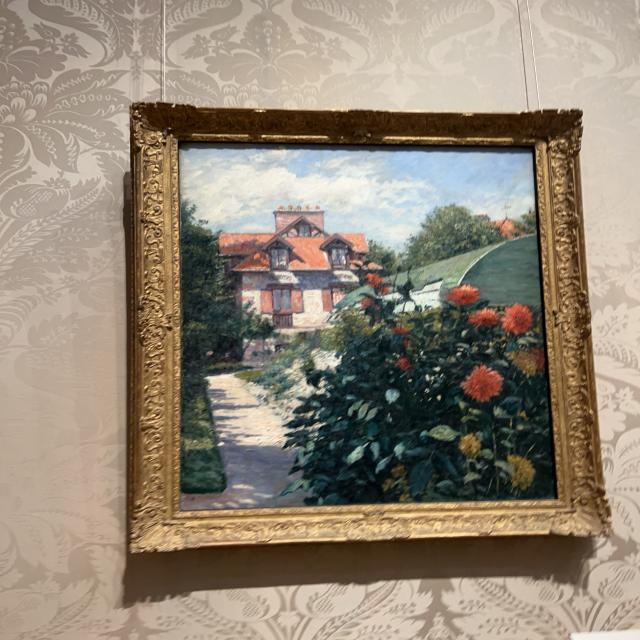summer: (186, 149, 548, 503)
